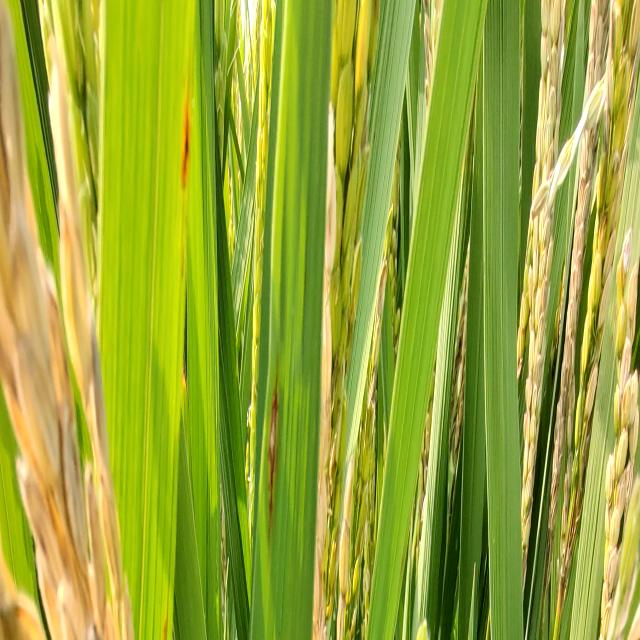LEAF BLAST: (269, 386, 278, 527)
